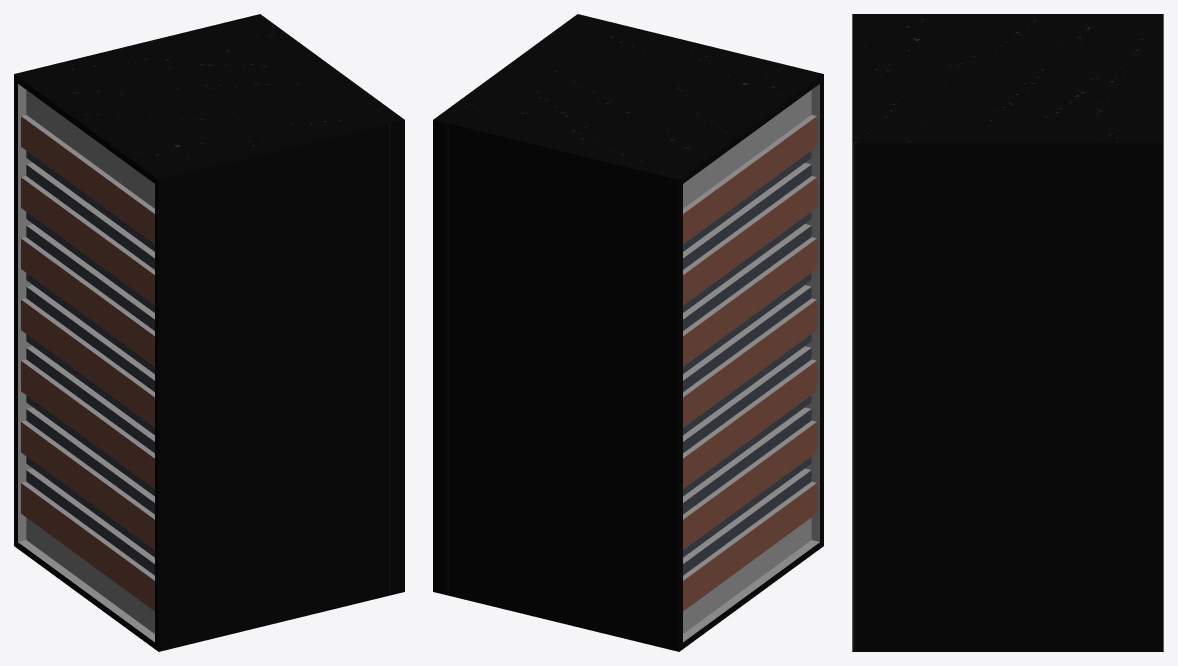
The model's file is server_export_1.FBX.
3 renders of one model, left to right at view 1: azimuth 30°, elevation 25°; view 2: azimuth 150°, elevation 25°; view 3: azimuth 270°, elevation 25°, orthographic. The views are drawn at different scales.
Parts seen in each view (by area): view 1: Box002; view 2: Box002; view 3: Box002.
Boxes of the visible parts, <box> form: Box002: <box>14,14,404,651</box>; Box002: <box>433,14,823,651</box>; Box002: <box>852,14,1163,651</box>.
Bounding box in the file's own units: 38.09 × 69.79 × 38.74.
8 materials, 3 textured.
